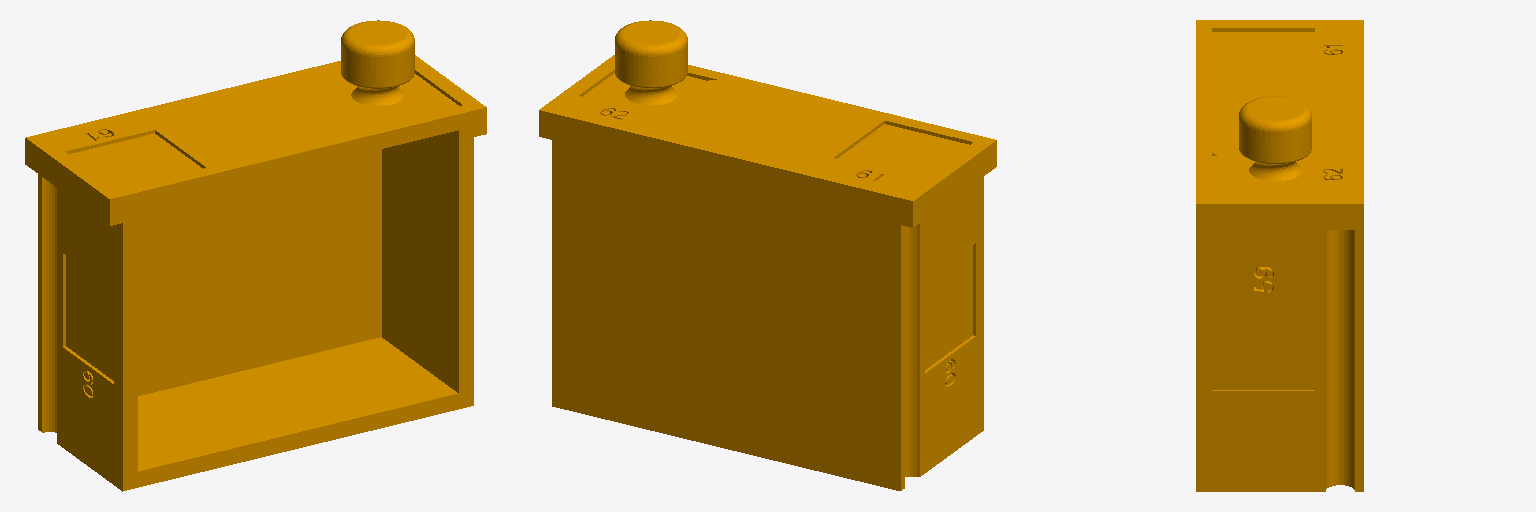
URDF robot description (drawer_DrawerHandle_GX0035_container_bottom):
<?xml version="1.0"?>
<robot name="drawer_DrawerHandle_GX0035_container_bottom">
    <link name="drawer_DrawerHandle_GX0035_container_bottom">
        <visual>
            <geometry>
                <mesh filename="../../mesh/drawer/drawer_DrawerHandle_GX0035/drawer_container_bottom.obj" scale="1 1 1"/>
            </geometry>
        </visual>
        <collision>
            <geometry>
                <mesh filename="../../mesh/drawer/drawer_DrawerHandle_GX0035/drawer_container_bottom.obj" scale="1 1 1"/>
            </geometry>
            <sdf resolution="512"/>
        </collision>
    </link>
</robot>

--- Facts derived from the render (not from the file) ---
The picture shows the robot from 3 angles, left to right: view 1: azimuth 30°, elevation 25°; view 2: azimuth 150°, elevation 25°; view 3: azimuth 270°, elevation 25°; orthographic projection.
Model drawer_DrawerHandle_GX0035_container_bottom with 1 links and 0 joints (none), rooted at drawer_DrawerHandle_GX0035_container_bottom, posed all joints at 0.
Links seen in each view (by area): view 1: drawer_DrawerHandle_GX0035_container_bottom; view 2: drawer_DrawerHandle_GX0035_container_bottom; view 3: drawer_DrawerHandle_GX0035_container_bottom.
Boxes of the visible links, x1,y1,x2,y2 form: drawer_DrawerHandle_GX0035_container_bottom: [25, 20, 486, 491]; drawer_DrawerHandle_GX0035_container_bottom: [539, 20, 996, 490]; drawer_DrawerHandle_GX0035_container_bottom: [1196, 20, 1363, 491].
Bounding box of the posed robot: 0.1103 × 0.0428 × 0.0997 m (x, y, z).
1 mesh visuals loaded from 1 distinct referenced files (1 OBJ).